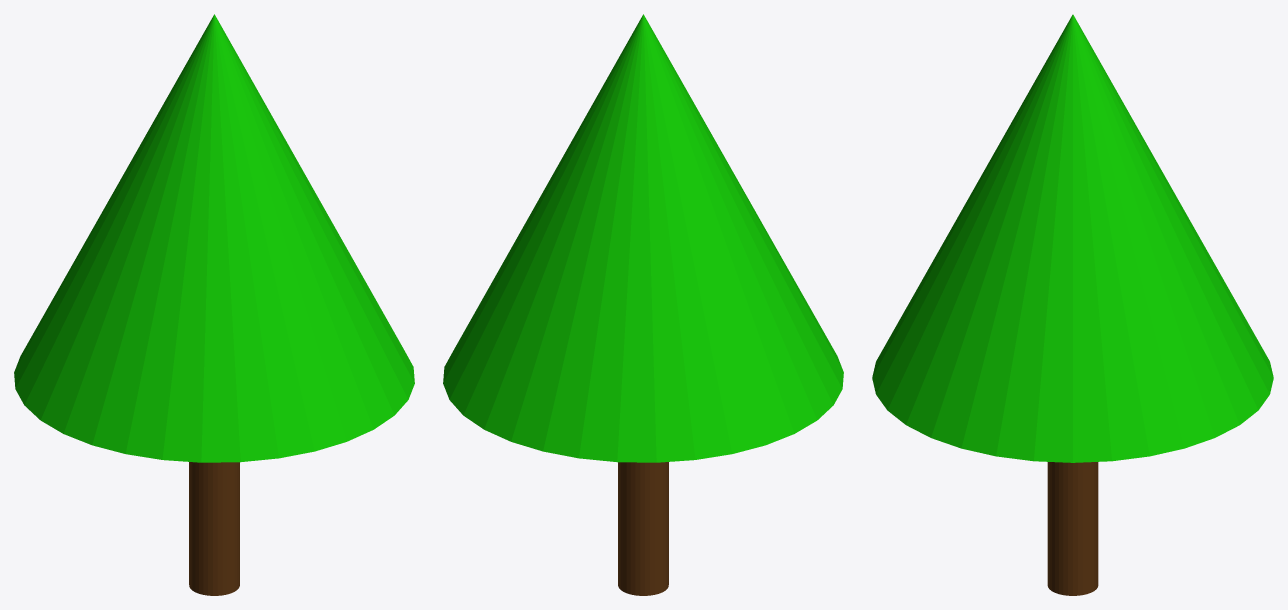
The model's file is tree.fbx.
3 views of the same model, side by side, from view 1: azimuth 30°, elevation 25°; view 2: azimuth 150°, elevation 25°; view 3: azimuth 270°, elevation 25° (orthographic).
Parts seen in each view (by area): view 1: Cone, Cylinder; view 2: Cone, Cylinder; view 3: Cone, Cylinder.
Boxes of the visible parts, bbox=[...] form: Cone: bbox=[14, 14, 414, 462]; Cylinder: bbox=[189, 462, 239, 595]; Cone: bbox=[443, 14, 843, 462]; Cylinder: bbox=[618, 462, 668, 595]; Cone: bbox=[872, 14, 1273, 462]; Cylinder: bbox=[1047, 462, 1098, 595].
Bounding box in the file's own units: 215 × 338 × 215.
